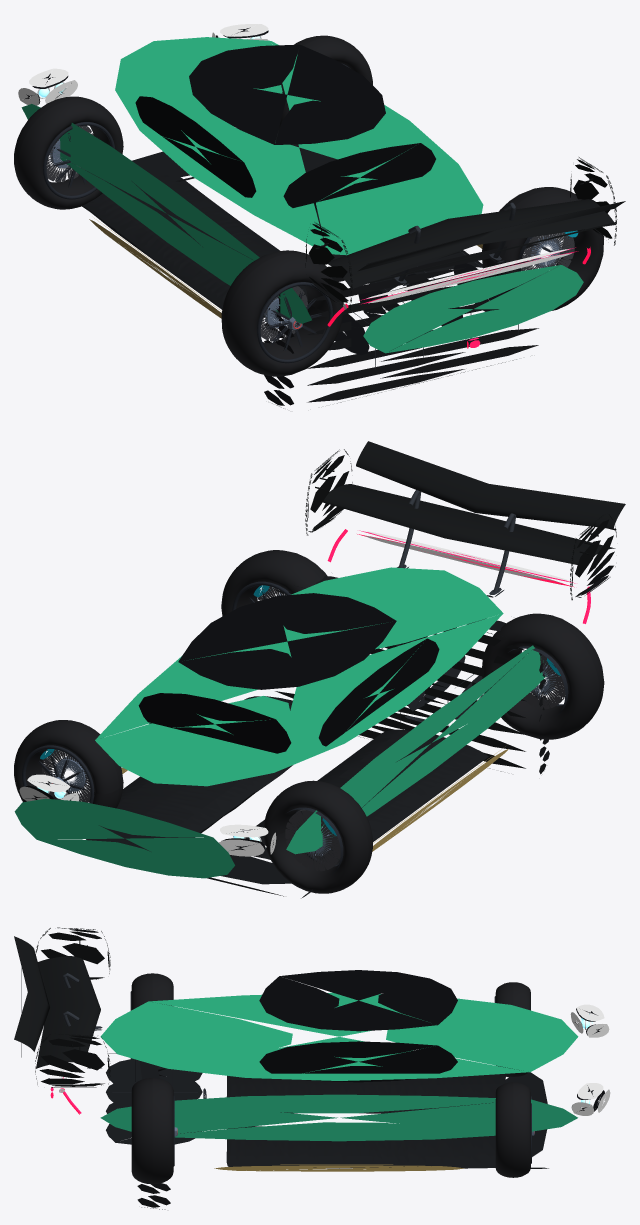
The model's file is vehicle_formula_supremacy_aero_spec.glb.
3 views of the same model, one above another, from view 1: azimuth 30°, elevation 25°; view 2: azimuth 150°, elevation 25°; view 3: azimuth 270°, elevation 25° (orthographic). The views are drawn at different scales.
Parts seen in each view (by area): view 1: FORMULA_SUPREMACY_AERO_SPEC, ACTIVE_VENTURI_UNDERBODY_FLOOR, ACTIVE_GURNEY_FLAP_LIP, MICHELIN_CUP_2R_TRACK_TIRE.002, MICHELIN_CUP_2R_TRACK_TIRE, FRONT_MATRIX_HEADLIGHT_CLUSTER, MICHELIN_CUP_2R_TRACK_TIRE.003, AERODYNAMIC_ENDPLATE_ASSEMBLY, FORGED_MAGNESIUM_RIM.002, DIFFUSER_STRAKE_1, MICHELIN_CUP_2R_TRACK_TIRE.001, FORGED_MAGNESIUM_RIM (+5 smaller); view 2: FORMULA_SUPREMACY_AERO_SPEC, ACTIVE_VENTURI_UNDERBODY_FLOOR, ACTIVE_GURNEY_FLAP_LIP, MICHELIN_CUP_2R_TRACK_TIRE.002, MICHELIN_CUP_2R_TRACK_TIRE, MICHELIN_CUP_2R_TRACK_TIRE.001, FRONT_MATRIX_HEADLIGHT_CLUSTER, MICHELIN_CUP_2R_TRACK_TIRE.003, AERODYNAMIC_ENDPLATE_ASSEMBLY, FLOATING_CSIC_BRAKE_ROTOR, FLOATING_CSIC_BRAKE_ROTOR.001, SEALING_SKIRT_LEFT (+6 smaller); view 3: FORMULA_SUPREMACY_AERO_SPEC, ACTIVE_VENTURI_UNDERBODY_FLOOR, ACTIVE_GURNEY_FLAP_LIP, MICHELIN_CUP_2R_TRACK_TIRE.003, MICHELIN_CUP_2R_TRACK_TIRE.001, AERODYNAMIC_ENDPLATE_ASSEMBLY, DIFFUSER_STRAKE_1, FRONT_MATRIX_HEADLIGHT_CLUSTER, SEALING_SKIRT_LEFT, MICHELIN_CUP_2R_TRACK_TIRE.002, MICHELIN_CUP_2R_TRACK_TIRE.
Part boxes in pixels (left/top/right/bottom): FORMULA_SUPREMACY_AERO_SPEC: left=21, top=37, right=583, bottom=353; ACTIVE_VENTURI_UNDERBODY_FLOOR: left=82, top=134, right=539, bottom=408; ACTIVE_GURNEY_FLAP_LIP: left=327, top=199, right=625, bottom=288; MICHELIN_CUP_2R_TRACK_TIRE.002: left=221, top=250, right=343, bottom=376; MICHELIN_CUP_2R_TRACK_TIRE: left=14, top=96, right=123, bottom=209; FRONT_MATRIX_HEADLIGHT_CLUSTER: left=18, top=24, right=571, bottom=309; MICHELIN_CUP_2R_TRACK_TIRE.003: left=482, top=187, right=603, bottom=310; AERODYNAMIC_ENDPLATE_ASSEMBLY: left=305, top=157, right=617, bottom=310; FORGED_MAGNESIUM_RIM.002: left=257, top=282, right=332, bottom=363; DIFFUSER_STRAKE_1: left=334, top=251, right=518, bottom=369; MICHELIN_CUP_2R_TRACK_TIRE.001: left=277, top=35, right=372, bottom=144; FORGED_MAGNESIUM_RIM: left=43, top=122, right=114, bottom=199; FORMULA_SUPREMACY_AERO_SPEC: left=14, top=567, right=550, bottom=878; ACTIVE_VENTURI_UNDERBODY_FLOOR: left=86, top=576, right=549, bottom=898; ACTIVE_GURNEY_FLAP_LIP: left=323, top=441, right=625, bottom=564; MICHELIN_CUP_2R_TRACK_TIRE.002: left=482, top=613, right=604, bottom=739; MICHELIN_CUP_2R_TRACK_TIRE: left=263, top=780, right=372, bottom=893; MICHELIN_CUP_2R_TRACK_TIRE.001: left=14, top=720, right=123, bottom=808; FRONT_MATRIX_HEADLIGHT_CLUSTER: left=19, top=531, right=592, bottom=856; MICHELIN_CUP_2R_TRACK_TIRE.003: left=221, top=550, right=327, bottom=616; AERODYNAMIC_ENDPLATE_ASSEMBLY: left=305, top=449, right=616, bottom=600; FLOATING_CSIC_BRAKE_ROTOR: left=285, top=809, right=340, bottom=871; FLOATING_CSIC_BRAKE_ROTOR.001: left=41, top=749, right=90, bottom=802; SEALING_SKIRT_LEFT: left=121, top=746, right=508, bottom=851; FORMULA_SUPREMACY_AERO_SPEC: left=100, top=970, right=578, bottom=1141; ACTIVE_VENTURI_UNDERBODY_FLOOR: left=135, top=1060, right=548, bottom=1209; ACTIVE_GURNEY_FLAP_LIP: left=14, top=936, right=100, bottom=1068; MICHELIN_CUP_2R_TRACK_TIRE.003: left=131, top=1078, right=173, bottom=1184; MICHELIN_CUP_2R_TRACK_TIRE.001: left=495, top=1082, right=530, bottom=1177; AERODYNAMIC_ENDPLATE_ASSEMBLY: left=35, top=927, right=110, bottom=1087; DIFFUSER_STRAKE_1: left=106, top=1053, right=206, bottom=1144; FRONT_MATRIX_HEADLIGHT_CLUSTER: left=59, top=1004, right=610, bottom=1115; SEALING_SKIRT_LEFT: left=214, top=1164, right=464, bottom=1171; MICHELIN_CUP_2R_TRACK_TIRE.002: left=131, top=973, right=173, bottom=1076; MICHELIN_CUP_2R_TRACK_TIRE: left=495, top=982, right=530, bottom=1077.
Bounding box in the file's own units: 2.75 × 1.5 × 4.75.
